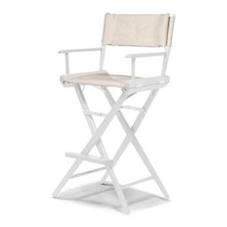chair: (38, 8, 205, 220)
